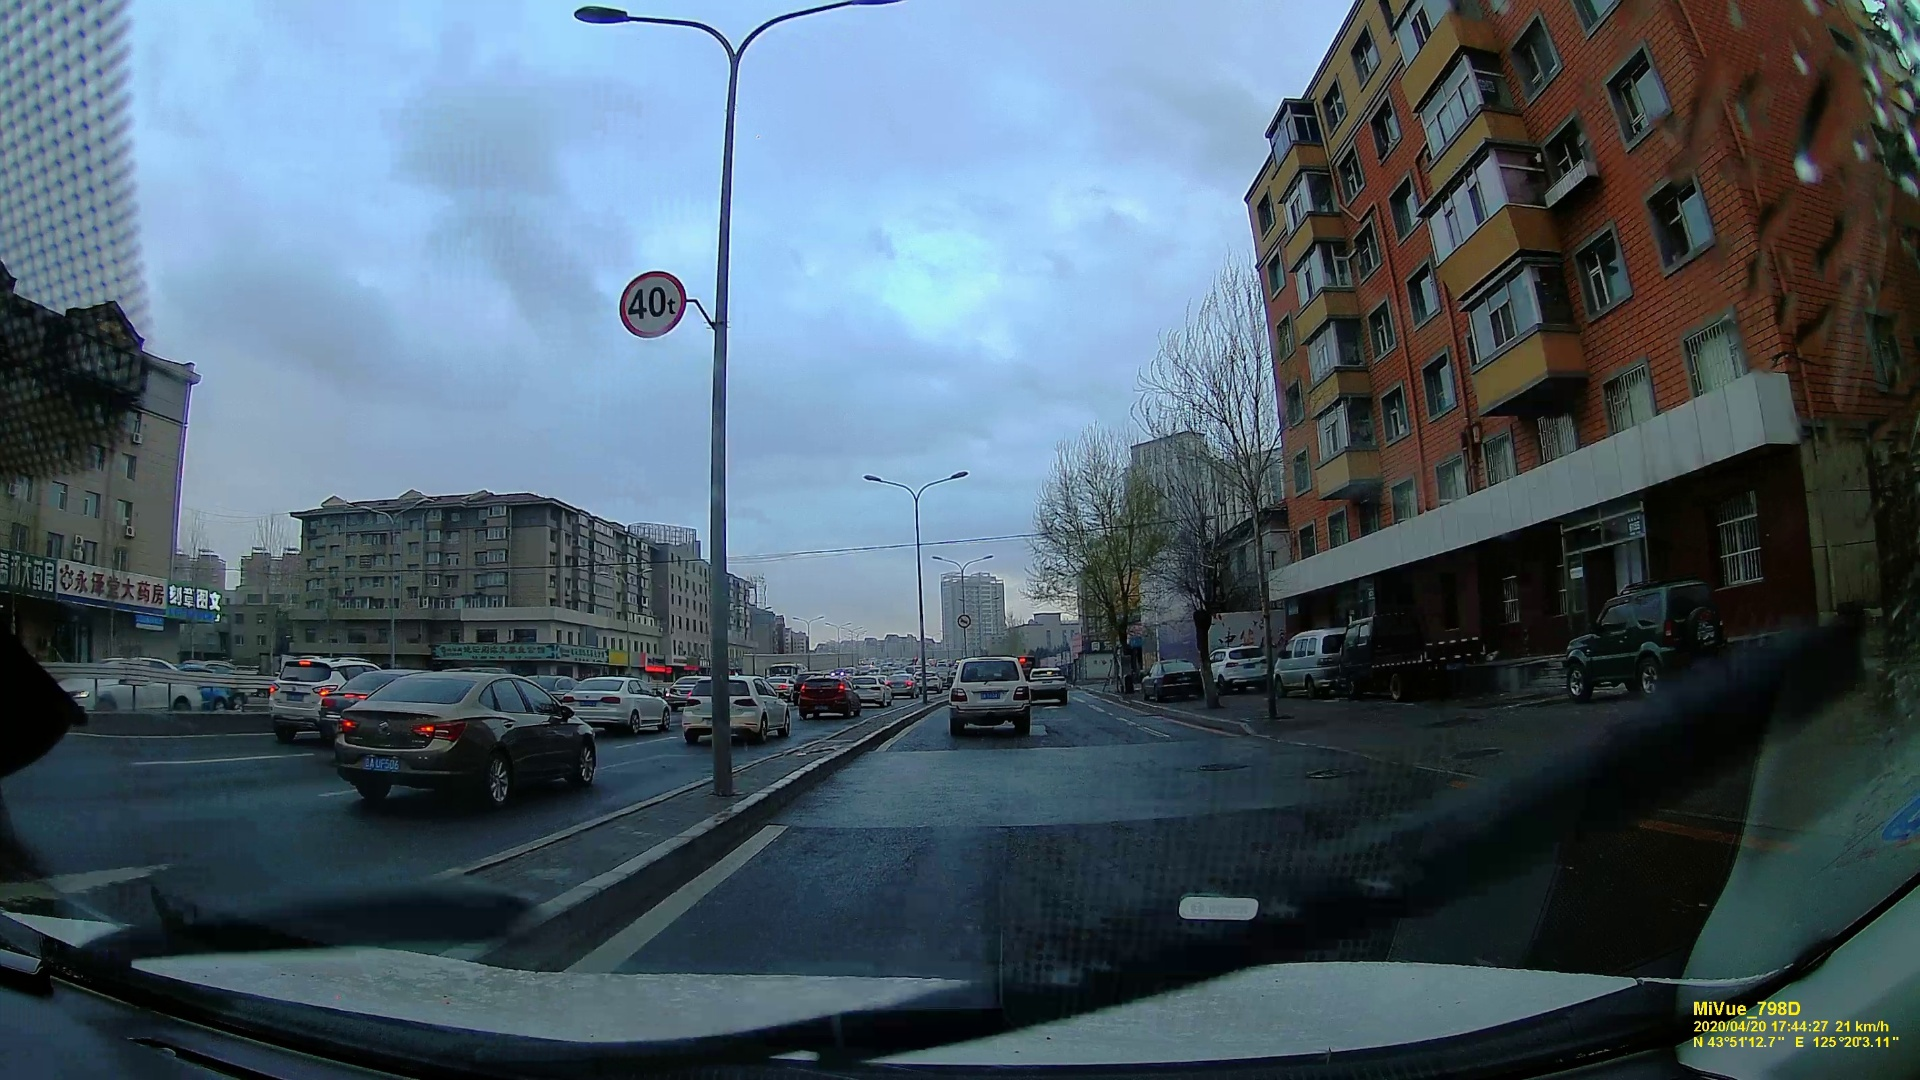traffic_sign: (612, 274, 676, 342)
truck: (1345, 616, 1499, 720)
vehicle: (320, 667, 597, 808), (1563, 576, 1737, 700), (262, 655, 364, 740), (673, 673, 793, 742), (948, 651, 1040, 731), (562, 673, 667, 732), (1267, 624, 1335, 703), (1197, 644, 1263, 694), (796, 675, 860, 719), (1025, 659, 1072, 703)
